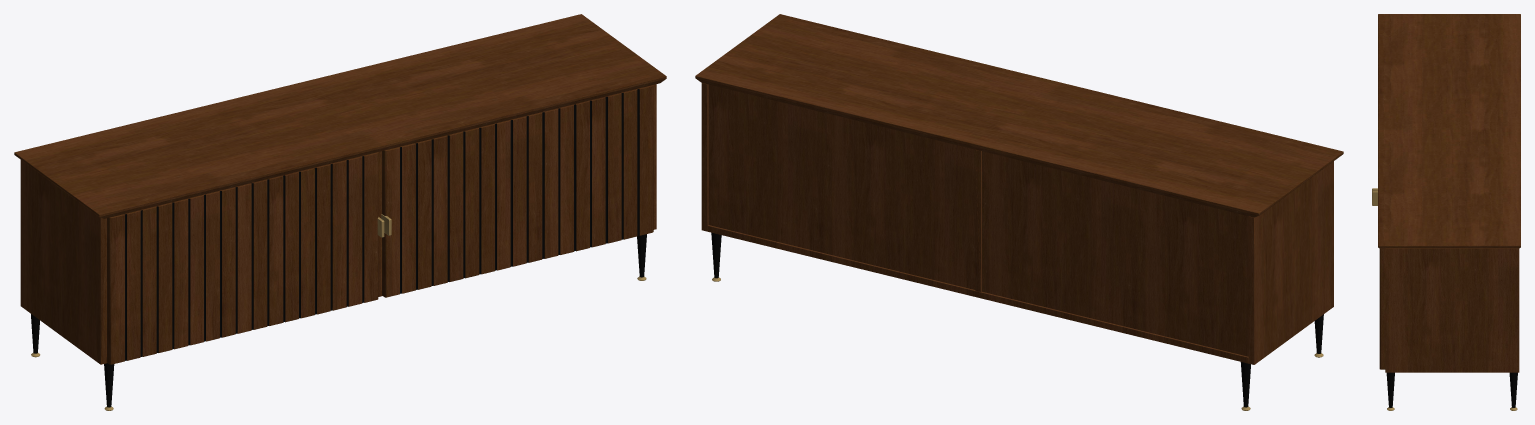
The model's file is tv_bench.glb.
3 views of the same model, side by side, from view 1: azimuth 30°, elevation 25°; view 2: azimuth 150°, elevation 25°; view 3: azimuth 270°, elevation 25° (orthographic). The views are drawn at different scales.
Parts seen in each view (by area): view 1: Cube_0, Cube.005_5, Cube.006_6, Cube.001_1, Cylinder_8, Cube.002_2; view 2: Cube.007_7, Cube_0, Cube.001_1, Cube.003_3, Cube.002_2, Cylinder_8, Cube.004_4; view 3: Cube_0, Cube.002_2, Cube.006_6, Cylinder_8.
Part boxes in pixels (left/top/right/bottom): Cube_0: left=14, top=14, right=666, bottom=218; Cube.005_5: left=107, top=152, right=378, bottom=364; Cube.006_6: left=382, top=85, right=653, bottom=297; Cube.001_1: left=20, top=160, right=106, bottom=364; Cylinder_8: left=31, top=234, right=646, bottom=410; Cube.002_2: left=653, top=84, right=656, bottom=229; Cube.007_7: left=708, top=84, right=1248, bottom=356; Cube_0: left=695, top=14, right=1343, bottom=217; Cube.001_1: left=1248, top=161, right=1333, bottom=364; Cube.003_3: left=707, top=225, right=1248, bottom=363; Cube.002_2: left=701, top=83, right=708, bottom=231; Cylinder_8: left=711, top=232, right=1323, bottom=410; Cube.004_4: left=975, top=149, right=981, bottom=291; Cube_0: left=1378, top=14, right=1520, bottom=248; Cube.002_2: left=1385, top=248, right=1519, bottom=372; Cube.006_6: left=1379, top=248, right=1385, bottom=369; Cylinder_8: left=1386, top=372, right=1517, bottom=410.
Bounding box in the file's own units: 1.8 × 0.6188 × 0.488.
3 materials, 1 textured.
